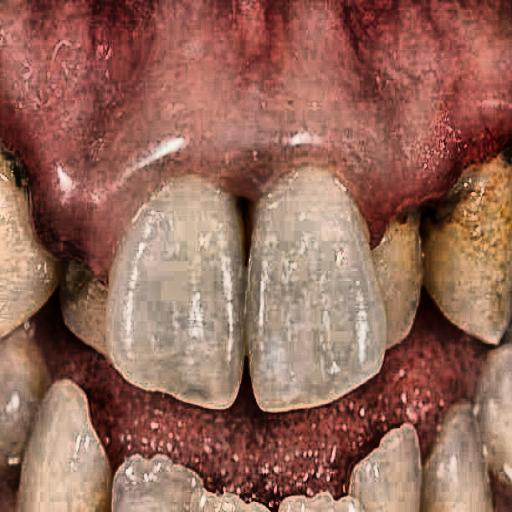Gingivitis: (18, 2, 420, 228)
